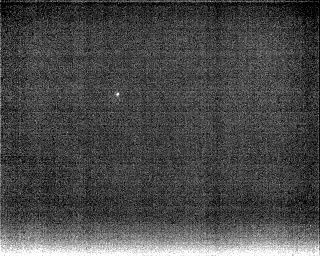BIRD: (114, 89, 122, 99)
